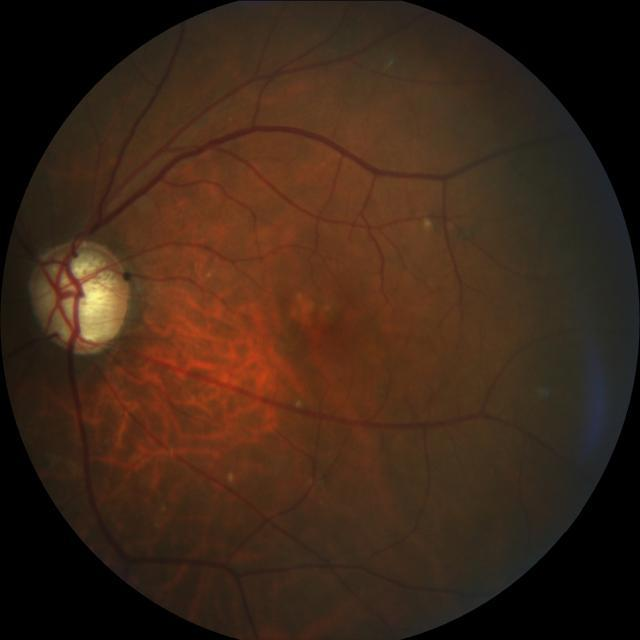OC: (35, 248, 123, 348)
OD: (29, 237, 131, 353)
